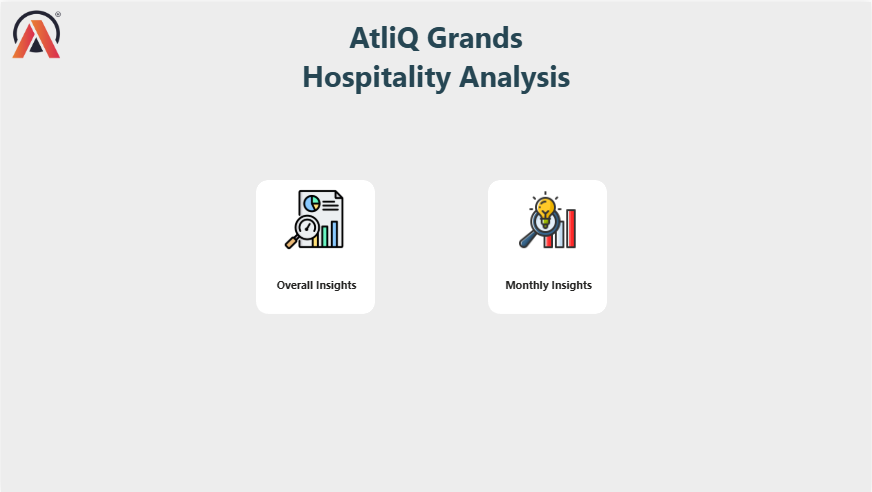

The page's visual inventory and layout, read from the dashboard file:
{"tool":"powerbi","page":{"name":"Home","canvas":[1280,720],"ordinal":0},"visuals":[{"type":"image","box":[5.9,5.9,94.1,82.4],"z":0},{"type":"shape","box":[375,261.8,175,197.1],"z":0,"group":"g1"},{"type":"textbox","title":"AtliQ Grands","box":[345.6,5.9,588.2,164.7],"z":1000},{"type":"shape","box":[716.2,261.8,175,197.1],"z":1000,"group":"g2"},{"type":"textbox","box":[730.9,400,148.5,35.3],"z":1500,"group":"g2"},{"type":"group","id":"g1","title":"Overall Insights Group","box":[375,261.8,175,197.1],"z":2000},{"type":"image","box":[753,270.6,101.5,98.5],"z":2000,"group":"g2"},{"type":"textbox","box":[389.7,400,148.5,35.3],"z":2000,"group":"g1"},{"type":"image","box":[408.8,270.6,102.9,98.5],"z":2500,"group":"g1"},{"type":"group","id":"g2","title":"Monthly Insights Group","box":[716.2,261.8,175,197.1],"z":3000},{"type":"actionButton","box":[389.7,270.6,148.5,176.5],"z":4000},{"type":"actionButton","box":[730.9,272.1,148.5,176.5],"z":5000}]}

Visuals, with their boxes in screenshot pixels (x1, y1, x2, y2), scaled from the page's 1280x720 canvas onto the 872x492 screenshot:
image: bbox=[4, 4, 68, 60]
shape: bbox=[255, 179, 375, 314]
"AtliQ Grands" textbox: bbox=[235, 4, 636, 117]
shape: bbox=[488, 179, 607, 314]
textbox: bbox=[498, 273, 599, 297]
"Overall Insights Group" group: bbox=[255, 179, 375, 314]
image: bbox=[513, 185, 582, 252]
textbox: bbox=[265, 273, 367, 297]
image: bbox=[278, 185, 349, 252]
"Monthly Insights Group" group: bbox=[488, 179, 607, 314]
actionButton: bbox=[265, 185, 367, 306]
actionButton: bbox=[498, 186, 599, 307]
